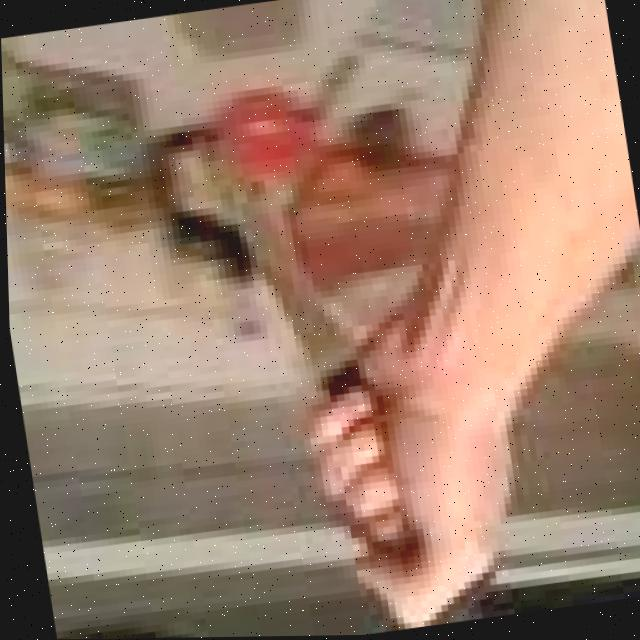knife: (176, 137, 398, 433)
